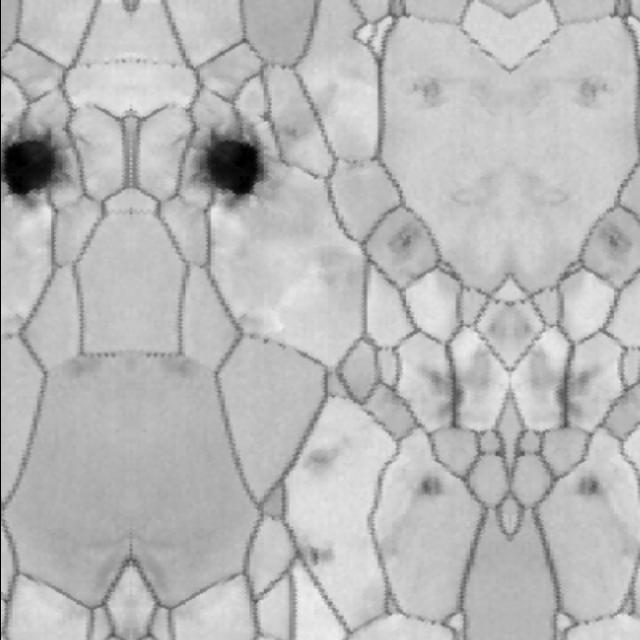good_void: (189, 124, 274, 208), (0, 124, 72, 208), (294, 420, 359, 489), (402, 58, 459, 127), (561, 58, 618, 127), (413, 358, 471, 423), (549, 358, 607, 423), (381, 215, 426, 263), (594, 215, 639, 263), (408, 461, 448, 504), (572, 461, 612, 504), (297, 530, 337, 568), (281, 117, 309, 149)
